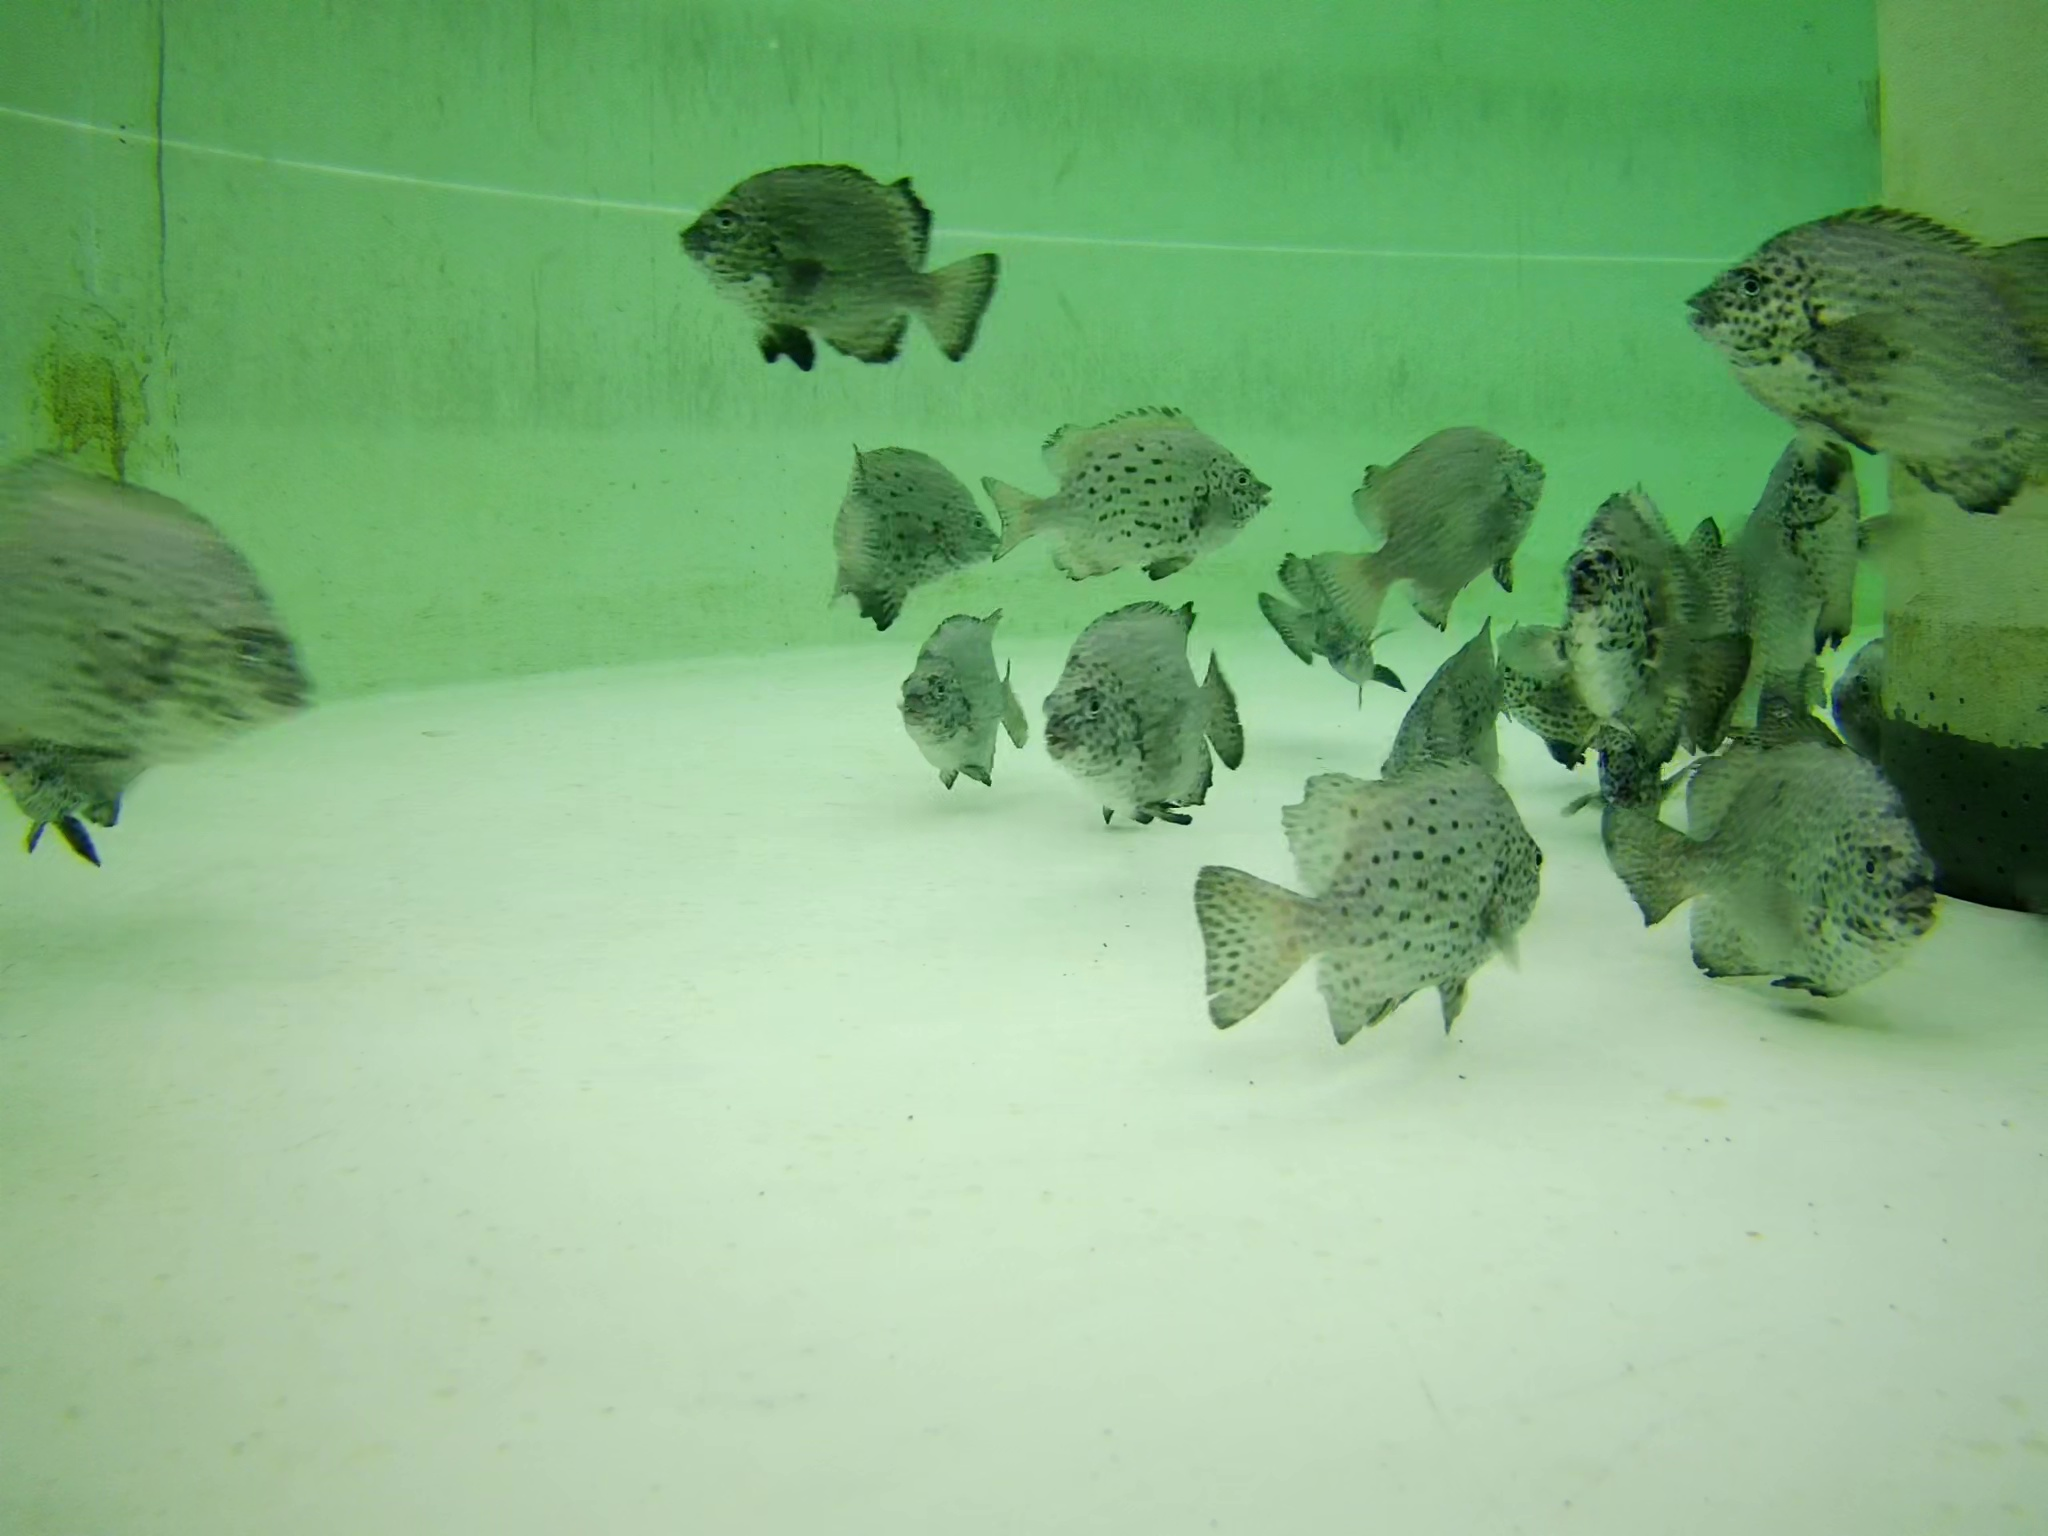fish: (2, 452, 319, 868), (1182, 749, 1553, 1042), (1687, 192, 2043, 481), (1588, 726, 1951, 1005), (671, 153, 1006, 369), (1034, 594, 1240, 837), (1561, 484, 1742, 758), (992, 395, 1269, 570), (1355, 399, 1540, 615), (826, 424, 997, 621), (895, 603, 1026, 791), (1782, 445, 1858, 652), (1285, 558, 1397, 699)
